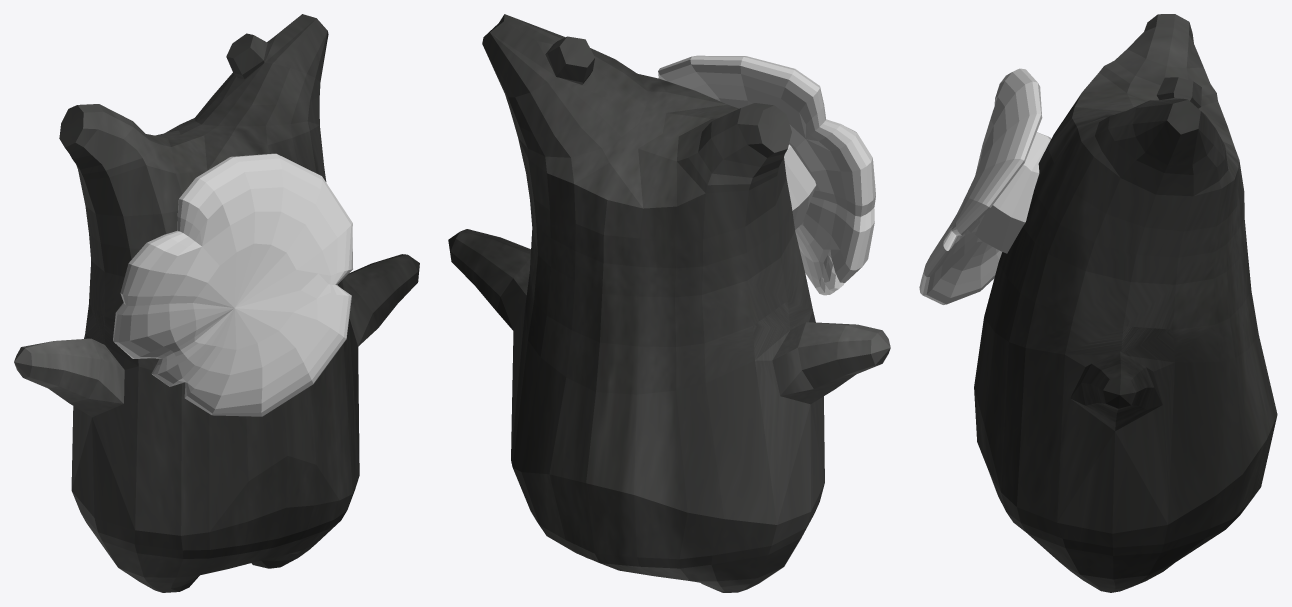
File: frame_0031.obj
3 views of the same model, side by side, from view 1: azimuth 30°, elevation 25°; view 2: azimuth 150°, elevation 25°; view 3: azimuth 270°, elevation 25° (orthographic). The views are drawn at different scales.
Parts seen in each view (by area): view 1: korok, leaf; view 2: korok, leaf, nose; view 3: korok, leaf, nose.
Part boxes in pixels (bbox=[...]): korok: bbox=[14, 14, 419, 592]; leaf: bbox=[113, 153, 352, 416]; korok: bbox=[448, 14, 890, 592]; leaf: bbox=[658, 55, 875, 295]; nose: bbox=[784, 144, 816, 229]; korok: bbox=[974, 14, 1277, 592]; leaf: bbox=[919, 68, 1042, 304]; nose: bbox=[975, 132, 1051, 253].
Bounding box in the file's own units: 1.86 × 2.22 × 1.37.
